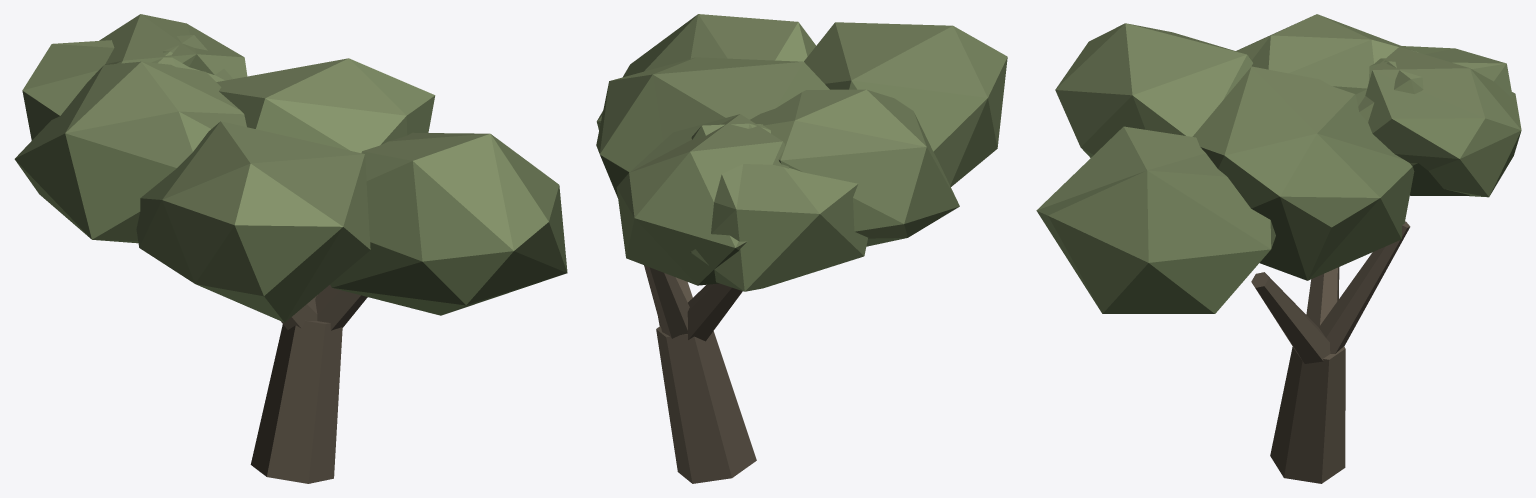
The model's file is olive_1.glb.
3 renders of one model, left to right at view 1: azimuth 30°, elevation 25°; view 2: azimuth 150°, elevation 25°; view 3: azimuth 270°, elevation 25°, orthographic. The views are drawn at different scales.
Visible parts, largest first — view 1: trunk; view 2: trunk; view 3: trunk.
Part boxes in pixels (x1,y1,x2,y2): trunk: (14,14,567,483); trunk: (596,14,1007,483); trunk: (1036,14,1521,483).
Bounding box in the file's own units: 3.61 × 3.54 × 4.06.
